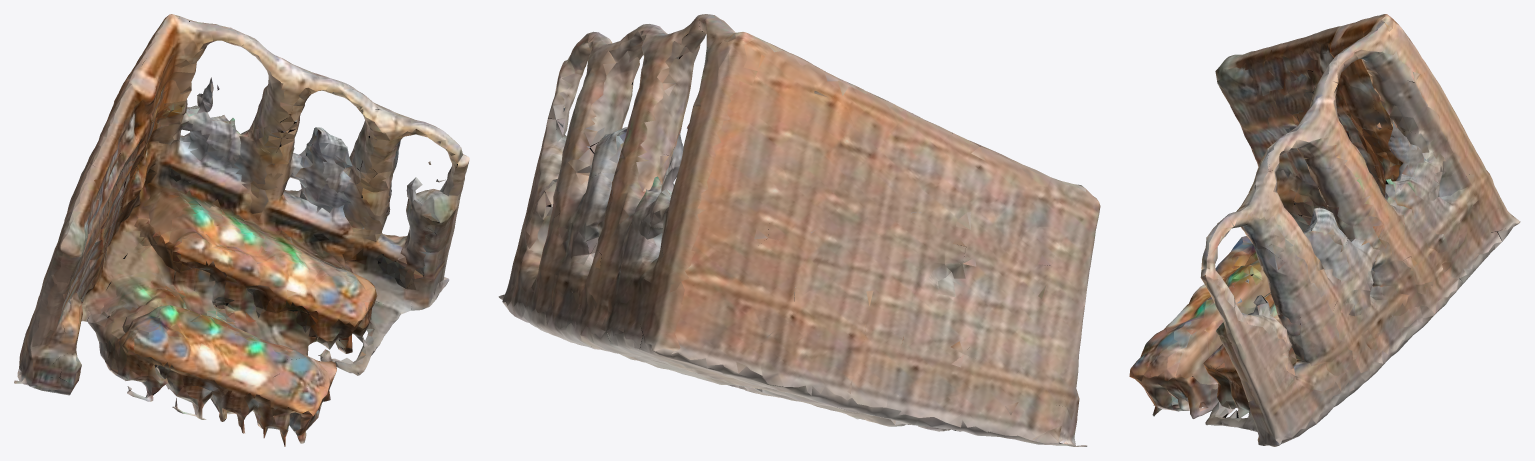
The picture shows the model from 3 angles, left to right: view 1: azimuth 30°, elevation 25°; view 2: azimuth 150°, elevation 25°; view 3: azimuth 270°, elevation 25°; orthographic projection. The views are drawn at different scales.
Visible parts, largest first — view 1: world; view 2: world; view 3: world.
Part boxes in pixels (bbox=[...]): world: bbox=[14, 14, 469, 446]; world: bbox=[498, 14, 1100, 446]; world: bbox=[1129, 14, 1520, 446].
Bounding box in the file's own units: 1 × 0.7909 × 0.7224.
Materials: 1 (1 with a texture image).
